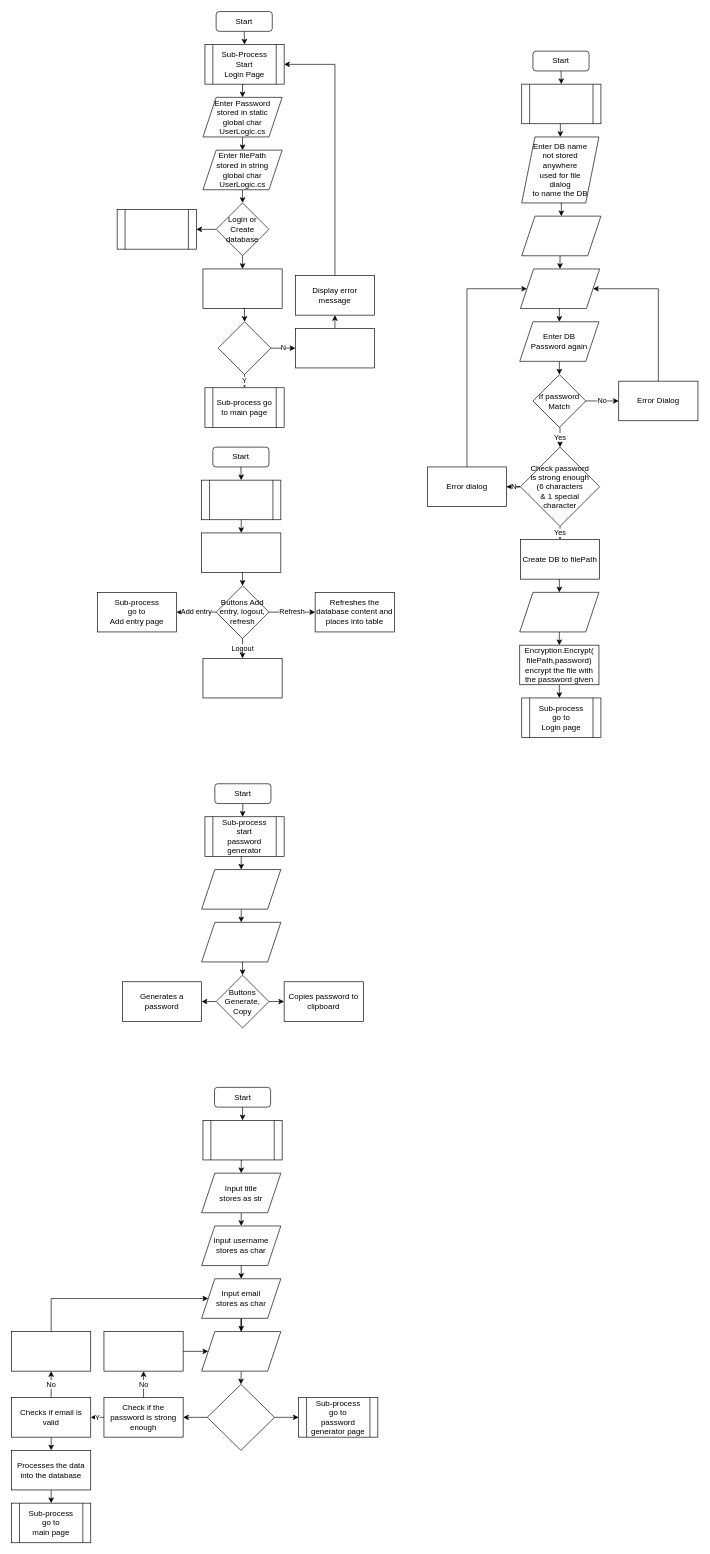
This 710x1554 diagram has some shape labels left out. Each missing label, with the centre of its shape:
Append the password to line[1] of the txt file: (559,612)
Buttons Add entry, password generate: (241,1417)
Dislpay error dialog: (143,1351)
Display error dialog: (51,1351)
Encryption.decrypt( password, filePath) file and replace with decrypted version: (242,288)
Encryption.encrypt( pageFile, password): (242,678)
Enter DB Password: (560,288)
Input (bool) include special characters: (241,889)
Input (int) password Length 1-100: (241,942)
Input password stores as char: (241,1351)
Page checks DB and processes that data into the table: (241,552)
Password Matches line[1]: (244,348)
Revert to old encrypted txt file: (335,348)
Select the filePath of the database: (561,235)
Sub-Process go to create database page: (156,229)
Sub-process start add entry: (242,1140)
Sub-process Start Create database Page: (561,103)
Sub-process start main page: (241,499)
